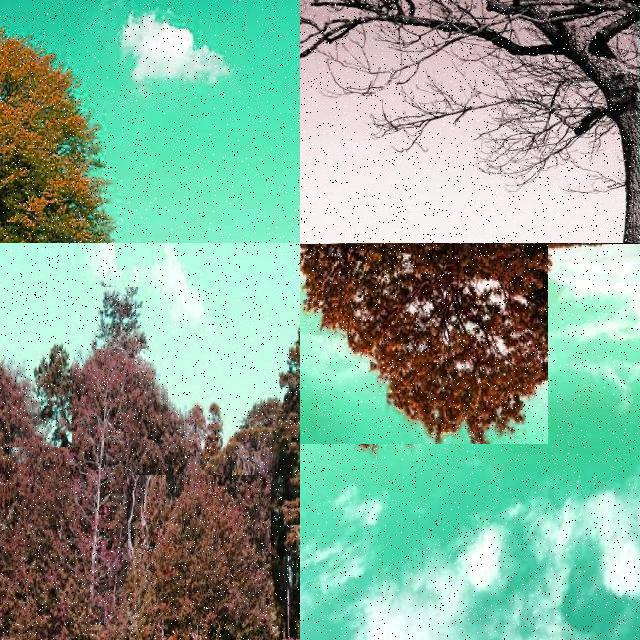tree: (300, 0, 640, 244), (300, 244, 548, 444), (36, 344, 152, 640), (0, 17, 128, 243), (127, 475, 271, 640), (0, 243, 68, 579), (0, 459, 72, 640), (0, 287, 72, 447), (0, 530, 36, 640), (96, 287, 146, 349), (608, 243, 632, 261), (582, 242, 602, 258)
